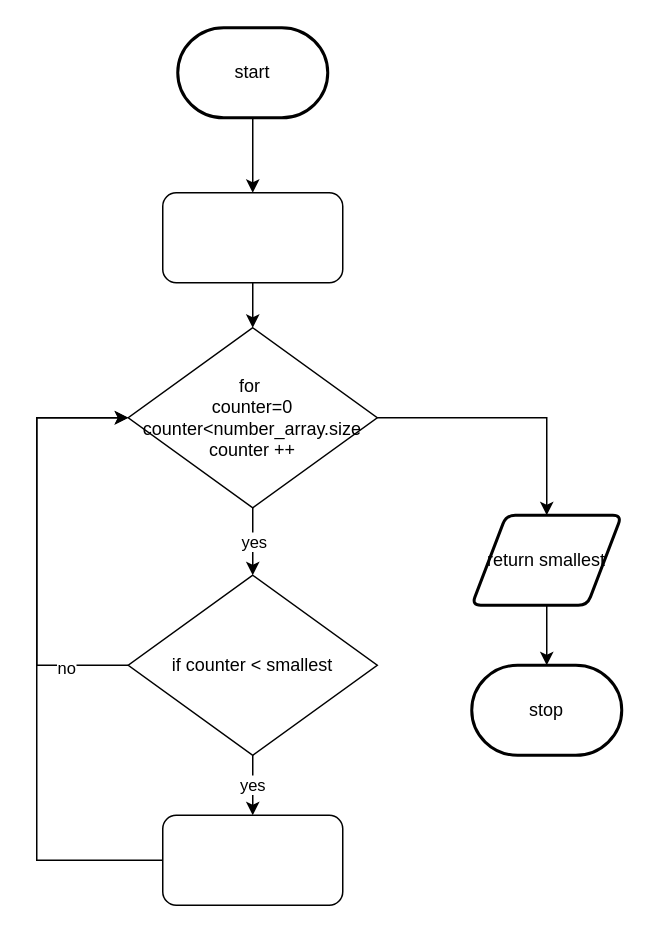
Image size: 650x932. Some labels were removed from this diagram. Each missing label, with the centre of its shape:
"smallest = 0" belongs at pixel 252 237.
"smallest = counter" belongs at pixel 252 859.
